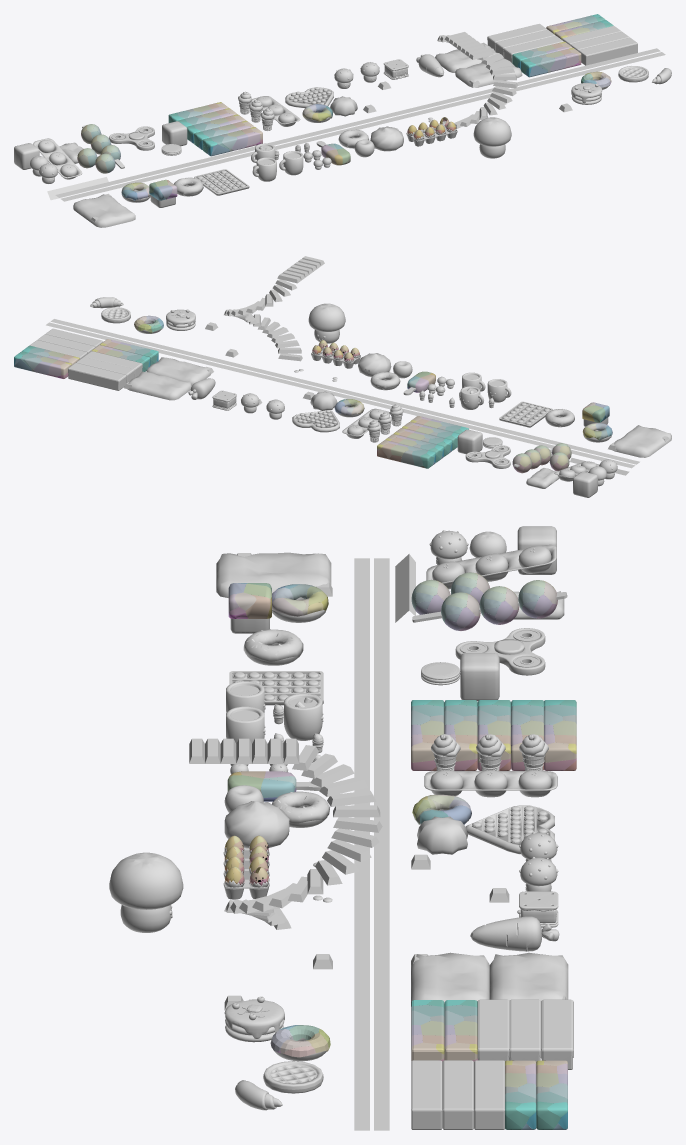
File: World_2_RainbowObbyASMR_Tower_TestRoom.glb
3 views of the same model, one above another, from view 1: azimuth 30°, elevation 25°; view 2: azimuth 150°, elevation 25°; view 3: azimuth 270°, elevation 25° (orthographic). The views are drawn at different scales.
Visible parts, largest first — view 1: Test_Front, Test_Front.001, Stage_9_Slime_Rect_Big_Parkour.001, Stage_3_JumMushroom.002, Cube.042_cell.006, Stage_6_Butter_Crush.010, Cube.013, Stage_2_SlimeTop.003, Stage_5_Slime_Jelly.002, Stage_2_SlimeTop.002, Pop_Toy_.005, FidgetSpinner.005 (+33 smaller); view 2: Test_Front.001, Test_Front, Stage_9_Slime_Rect_Big_Parkour.001, Stage_2_SlimeTop.002, Stage_3_JumMushroom.002, Stage_6_Butter_Crush.011, Stage_2_SlimeTop.003, Stage_0_ButterBlock_Crush.014, Cube.019, Stage_5_Kalp.006, Pop_Toy_.005, Stage_5_Slime_Jelly.002 (+32 smaller); view 3: Test_Front, Test_Front.001, Stage_3_JumMushroom.002, Stage_9_Slime_Rect_Big_Parkour.001, Stage_2_SlimeTop.002, Stage_2_SlimeTop.003, Stage_6_Butter_Crush.011, Stage_5_Slime_Jelly.002, Cube.013, Cube.017, Stage_0_ButterBlock_Crush.014, Stage_0_ButterBlock_Crush.013 (+41 smaller).
Boxes of the visible parts, x1=… form: Test_Front: x1=55, y1=48, x2=660, y2=197; Test_Front.001: x1=60, y1=52, x2=665, y2=201; Stage_9_Slime_Rect_Big_Parkour.001: x1=73, y1=194, x2=135, y2=227; Stage_3_JumMushroom.002: x1=473, y1=117, x2=511, y2=158; Cube.042_cell.006: x1=521, y1=48, x2=581, y2=77; Stage_6_Butter_Crush.010: x1=202, y1=127, x2=262, y2=156; Cube.013: x1=578, y1=37, x2=637, y2=65; Stage_2_SlimeTop.003: x1=455, y1=58, x2=522, y2=87; Stage_5_Slime_Jelly.002: x1=370, y1=126, x2=403, y2=151; Stage_2_SlimeTop.002: x1=435, y1=43, x2=499, y2=72; Pop_Toy_.005: x1=194, y1=169, x2=249, y2=195; FidgetSpinner.005: x1=109, y1=126, x2=154, y2=150; Test_Front.001: x1=50, y1=319, x2=639, y2=464; Test_Front: x1=46, y1=322, x2=635, y2=468; Stage_9_Slime_Rect_Big_Parkour.001: x1=613, y1=425, x2=671, y2=457; Stage_2_SlimeTop.002: x1=127, y1=371, x2=191, y2=400; Stage_3_JumMushroom.002: x1=308, y1=303, x2=345, y2=343; Stage_6_Butter_Crush.011: x1=377, y1=440, x2=435, y2=468; Stage_2_SlimeTop.003: x1=146, y1=357, x2=210, y2=385; Stage_0_ButterBlock_Crush.014: x1=14, y1=351, x2=71, y2=378; Cube.019: x1=68, y1=363, x2=126, y2=384; Stage_5_Kalp.006: x1=292, y1=410, x2=339, y2=432; Pop_Toy_.005: x1=499, y1=401, x2=552, y2=427; Stage_5_Slime_Jelly.002: x1=358, y1=353, x2=391, y2=376; Test_Front: x1=374, y1=558, x2=389, y2=1130; Test_Front.001: x1=354, y1=558, x2=369, y2=1130; Stage_3_JumMushroom.002: x1=109, y1=852, x2=183, y2=932; Stage_9_Slime_Rect_Big_Parkour.001: x1=216, y1=552, x2=331, y2=597; Stage_2_SlimeTop.002: x1=489, y1=952, x2=568, y2=1000; Stage_2_SlimeTop.003: x1=411, y1=952, x2=489, y2=1006; Stage_6_Butter_Crush.011: x1=544, y1=700, x2=576, y2=770; Stage_5_Slime_Jelly.002: x1=224, y1=801, x2=289, y2=848; Cube.013: x1=411, y1=1060, x2=442, y2=1129; Cube.017: x1=442, y1=1060, x2=473, y2=1129; Stage_0_ButterBlock_Crush.014: x1=536, y1=1060, x2=567, y2=1129; Stage_0_ButterBlock_Crush.013: x1=505, y1=1060, x2=536, y2=1129.
Size of what is drawn, in the model's own units: 139 by 20.46 by 47.64.
